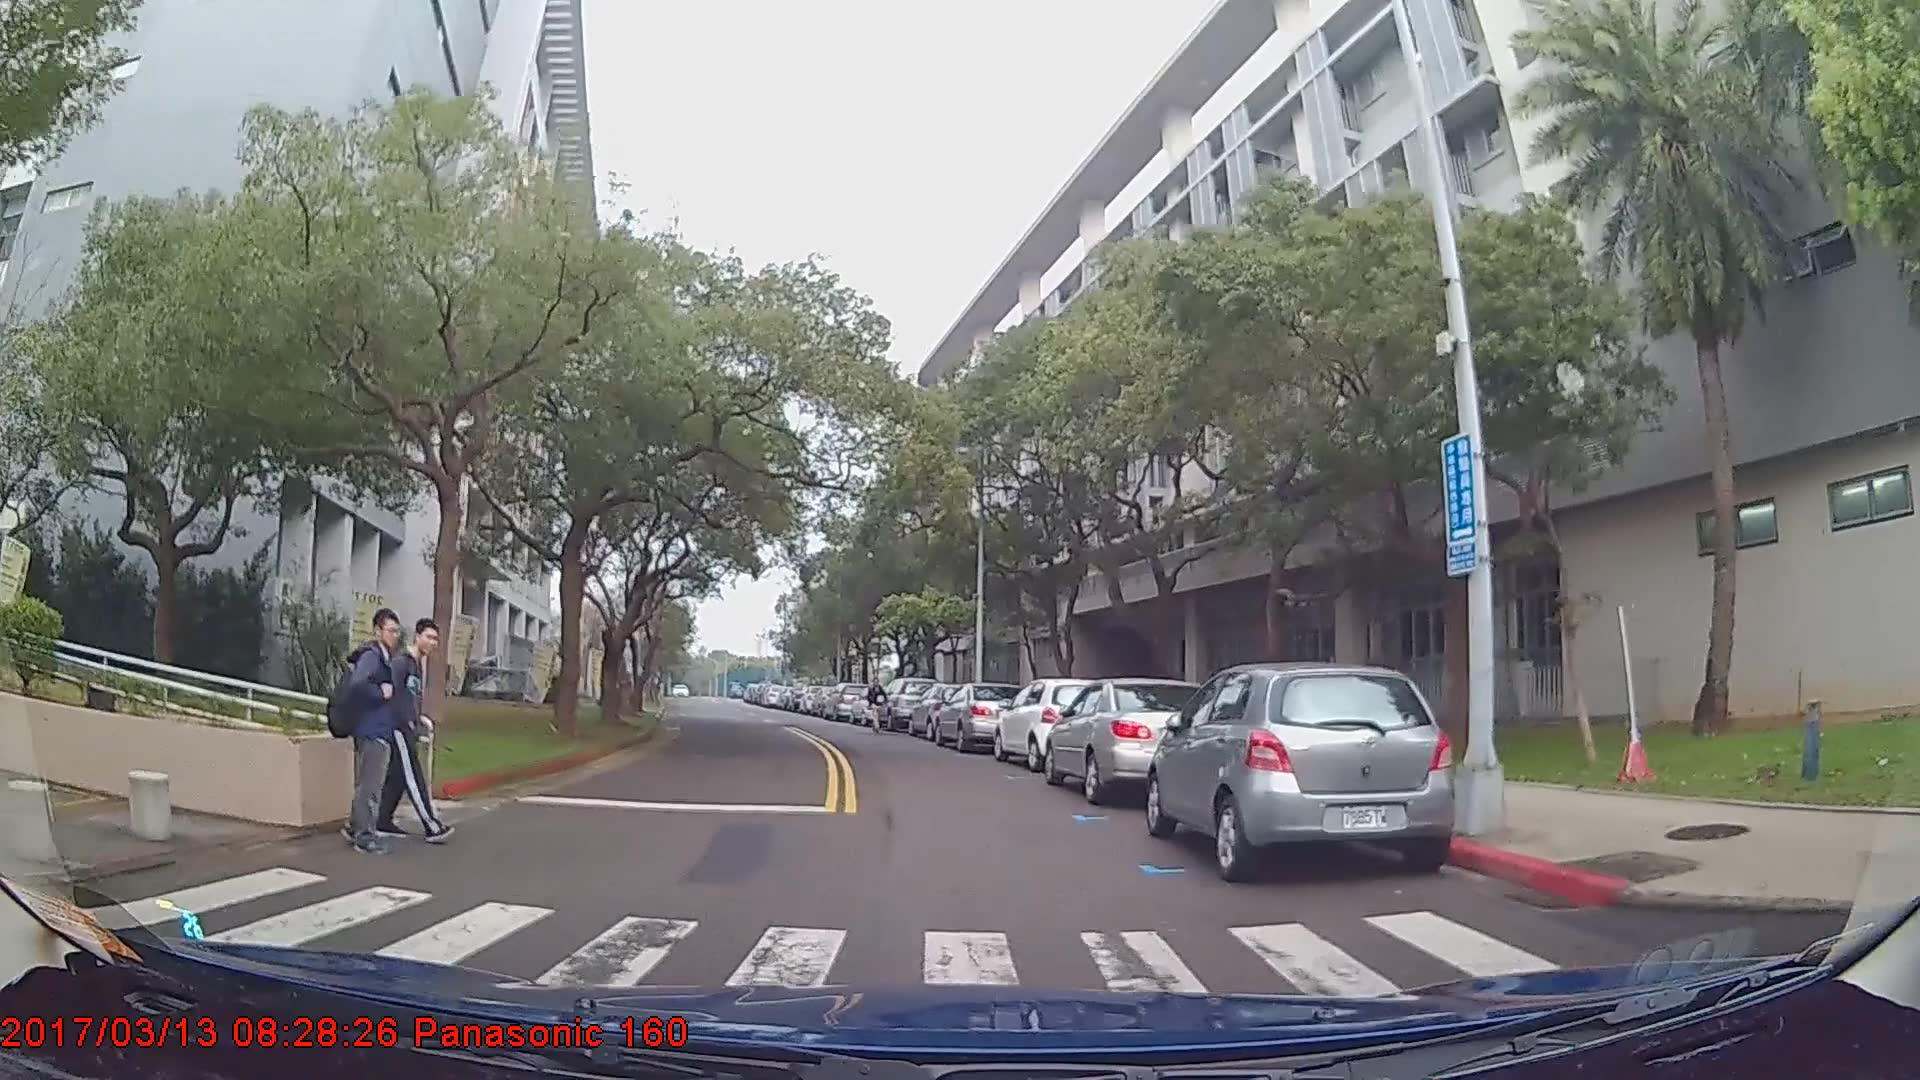pedestrian: (312, 612, 408, 861), (366, 619, 458, 850), (867, 676, 890, 736)
vehicle: (1146, 658, 1456, 884), (1043, 677, 1230, 804), (993, 677, 1113, 771), (933, 679, 1028, 751), (909, 679, 985, 740), (873, 674, 939, 729), (825, 682, 875, 720)
